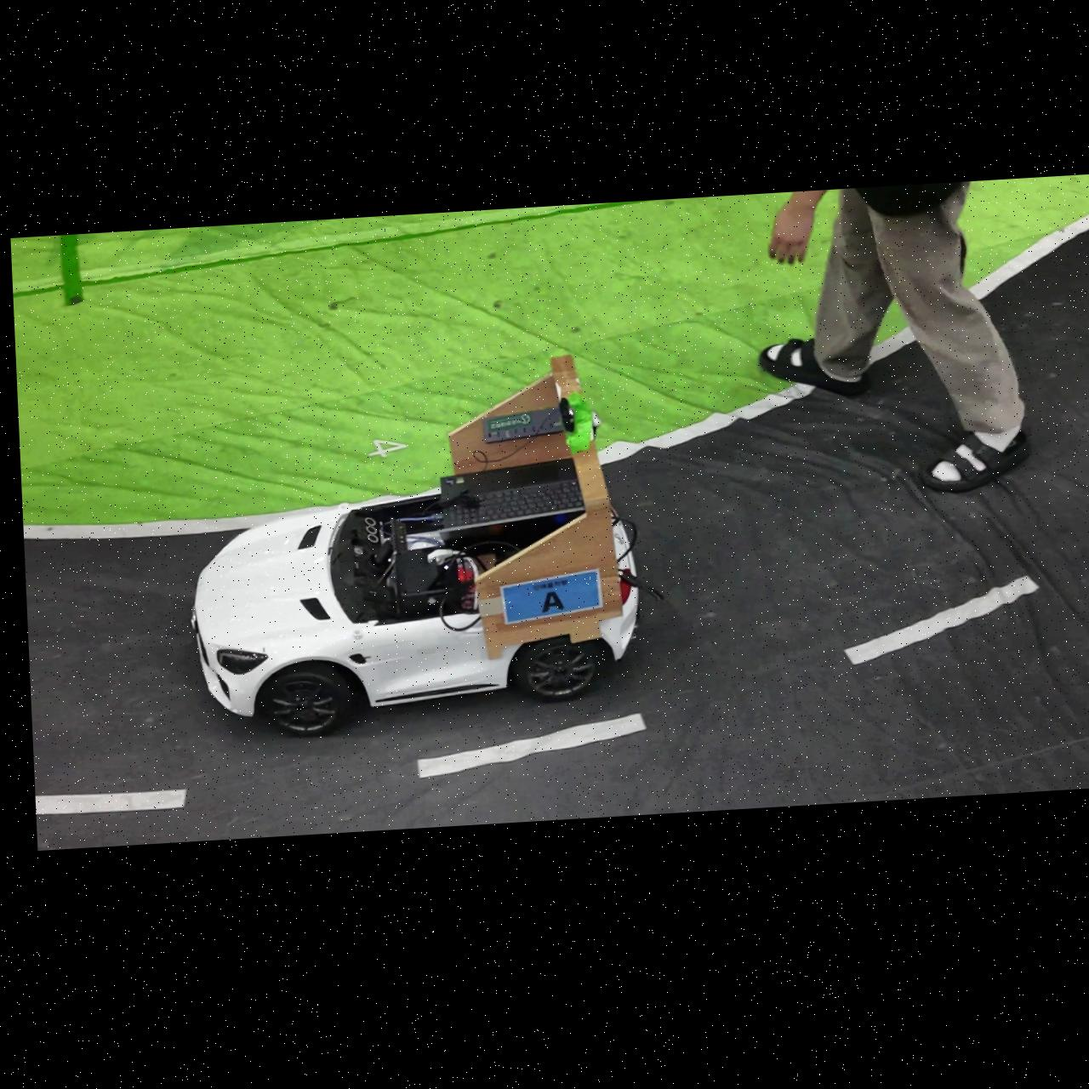broken_line: (844, 577, 1038, 664), (418, 714, 645, 776), (35, 789, 186, 815)
